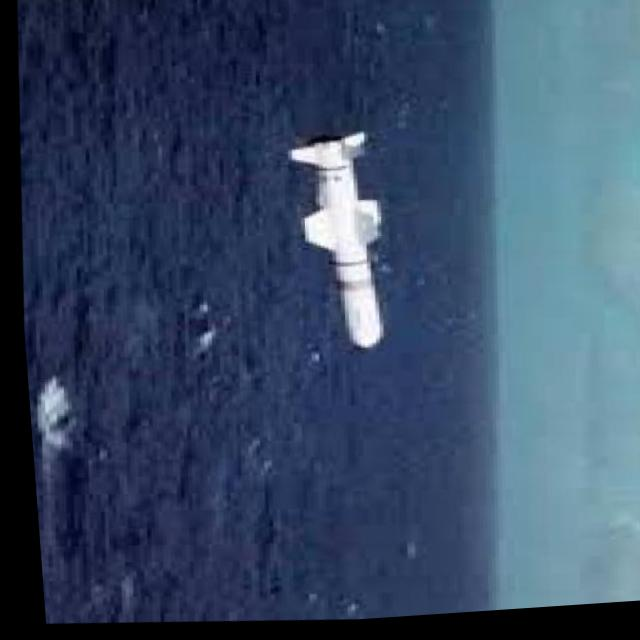missile: (269, 129, 395, 355)
